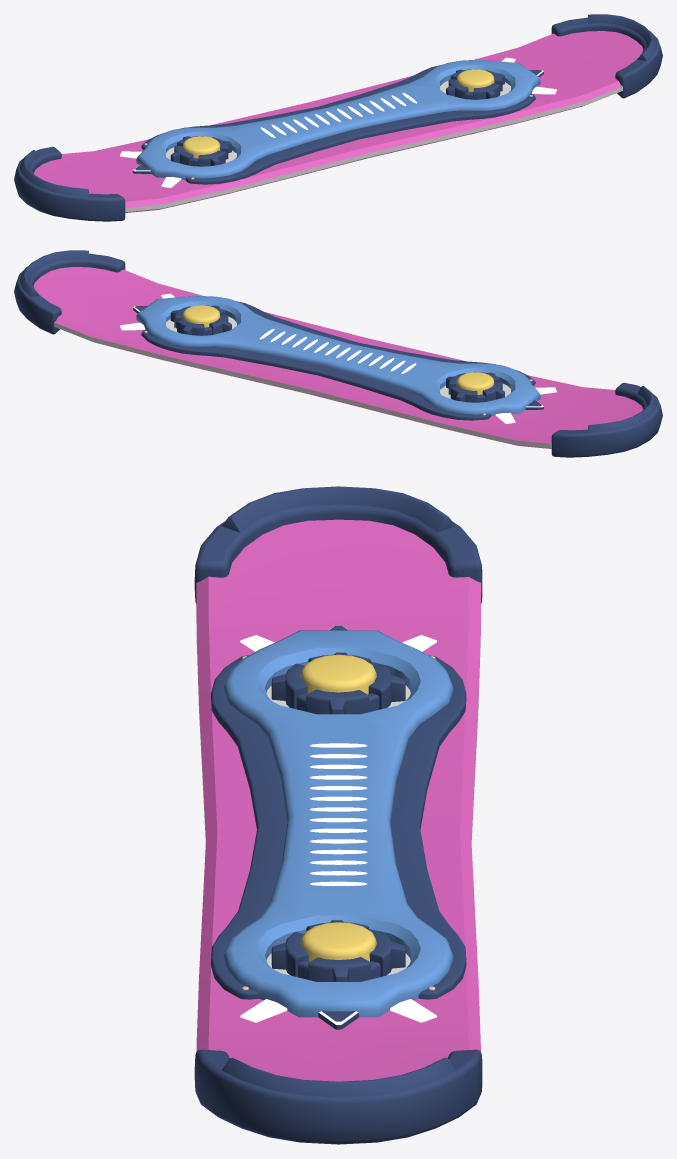
Rendered from hoverboard.glb.
3 views of the same model, one above another, from view 1: azimuth 30°, elevation 25°; view 2: azimuth 150°, elevation 25°; view 3: azimuth 270°, elevation 25° (orthographic). The views are drawn at different scales.
Visible parts, largest first — view 1: Hoverboard, Circle, Plane.003, Circle.006, Plane.004; view 2: Hoverboard, Circle, Plane.003, Circle.006, Plane.004; view 3: Hoverboard, Circle, Plane.003, Circle.006, Plane.004.
Boxes of the visible parts, x1,y1,x2,y2 form: Hoverboard: (33, 31, 643, 212); Circle: (136, 59, 540, 179); Plane.003: (14, 14, 662, 221); Circle.006: (141, 65, 535, 184); Plane.004: (120, 57, 556, 187); Hoverboard: (33, 267, 643, 448); Circle: (136, 296, 540, 415); Plane.003: (14, 250, 662, 457); Circle.006: (141, 301, 535, 420); Plane.004: (120, 293, 556, 423); Hoverboard: (196, 519, 481, 1081); Circle: (223, 630, 453, 1017); Plane.003: (194, 486, 482, 1144); Circle.006: (211, 655, 466, 999); Plane.004: (240, 625, 436, 1029).
Bounding box in the file's own units: 1.78 × 0.128 × 0.3531.
